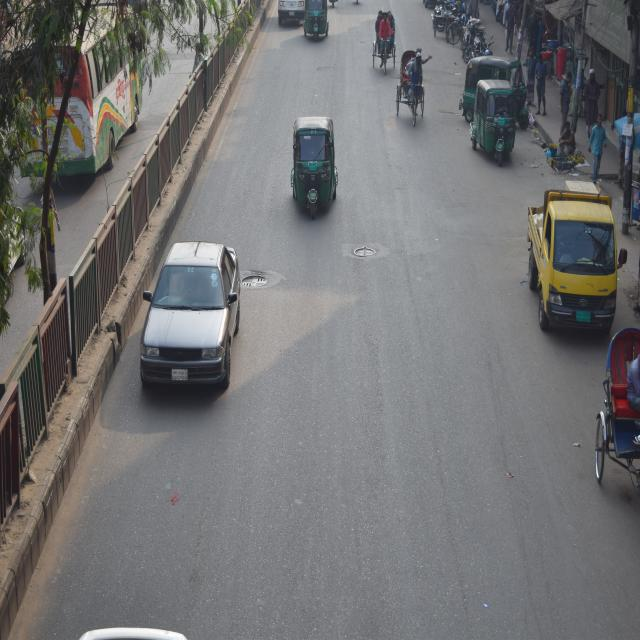car: (136, 226, 264, 431)
pickup-van: (515, 173, 638, 335)
